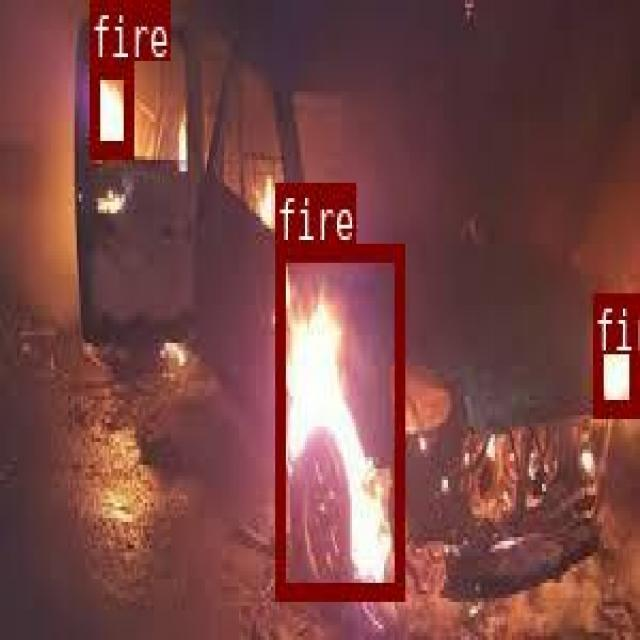fire: (275, 243, 402, 595), (592, 291, 636, 412), (88, 59, 131, 154)
